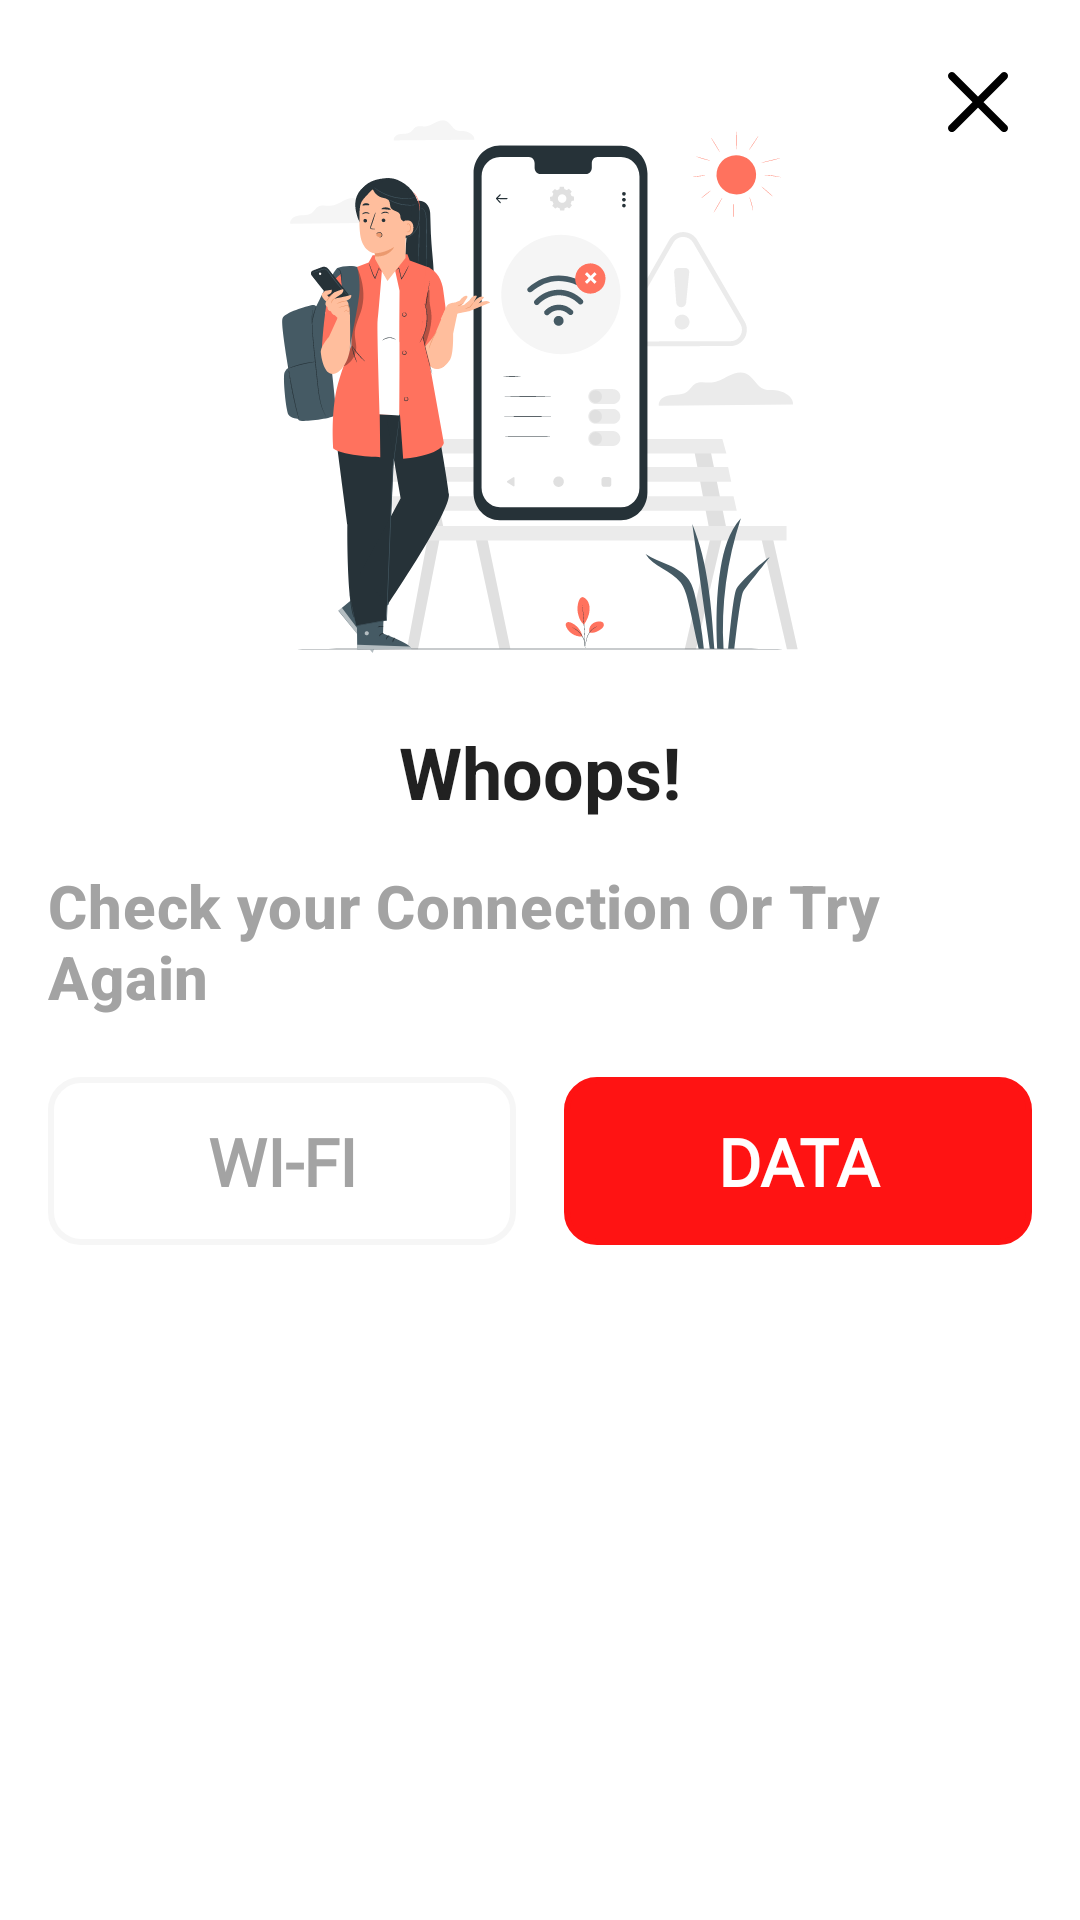

Point at icon controls on the screen. Image size 1080×1920, points as point (x, y).
close: point (978, 102)
